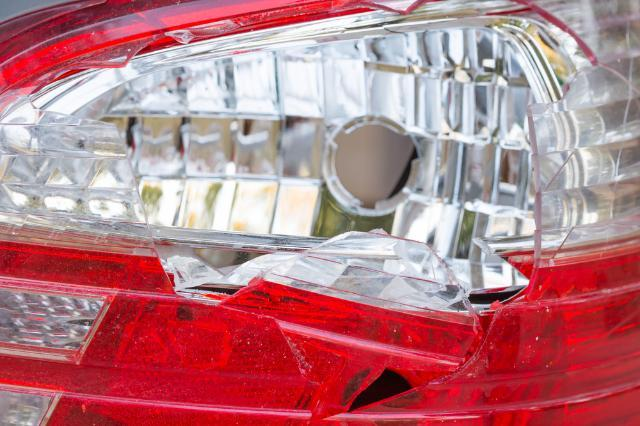lamp broken: (0, 0, 640, 426)
